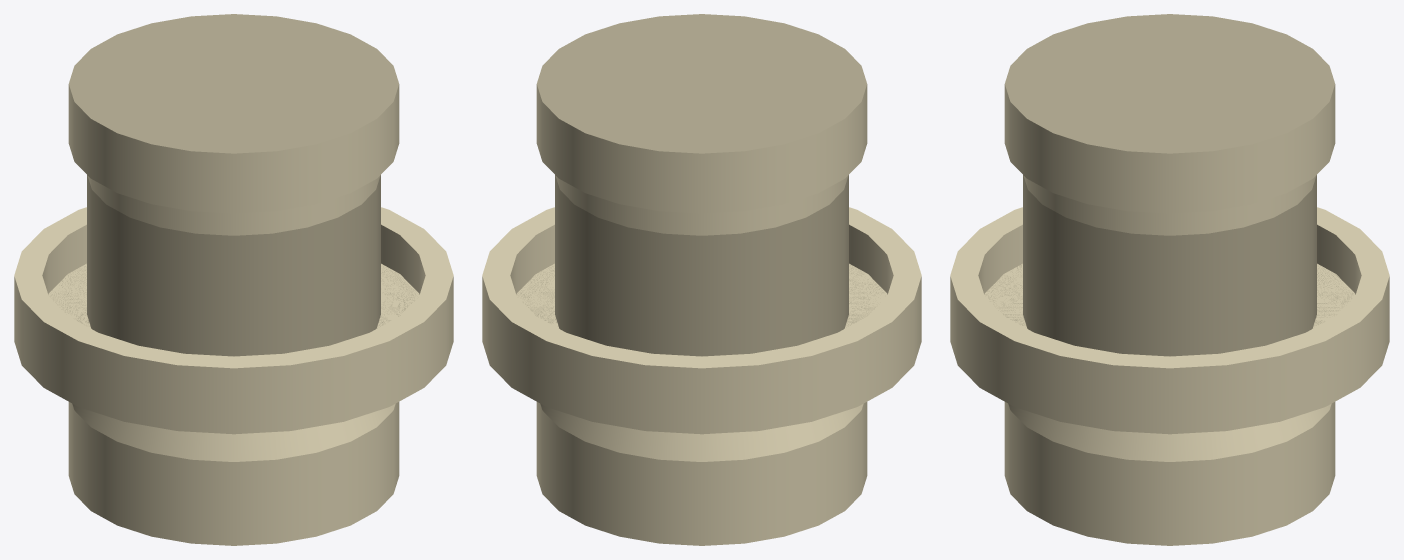
The model's file is towerBalcony.obj.
The picture shows the model from 3 angles, left to right: view 1: azimuth 30°, elevation 25°; view 2: azimuth 150°, elevation 25°; view 3: azimuth 270°, elevation 25°; orthographic projection.
Visible parts, largest first — view 1: towerBalcony; view 2: towerBalcony; view 3: towerBalcony.
Part boxes in pixels (bbox=[...]): towerBalcony: bbox=[14, 14, 453, 545]; towerBalcony: bbox=[482, 14, 921, 545]; towerBalcony: bbox=[950, 14, 1389, 545].
Size of the model in its own units: 13.3 by 13.1 by 13.3.
